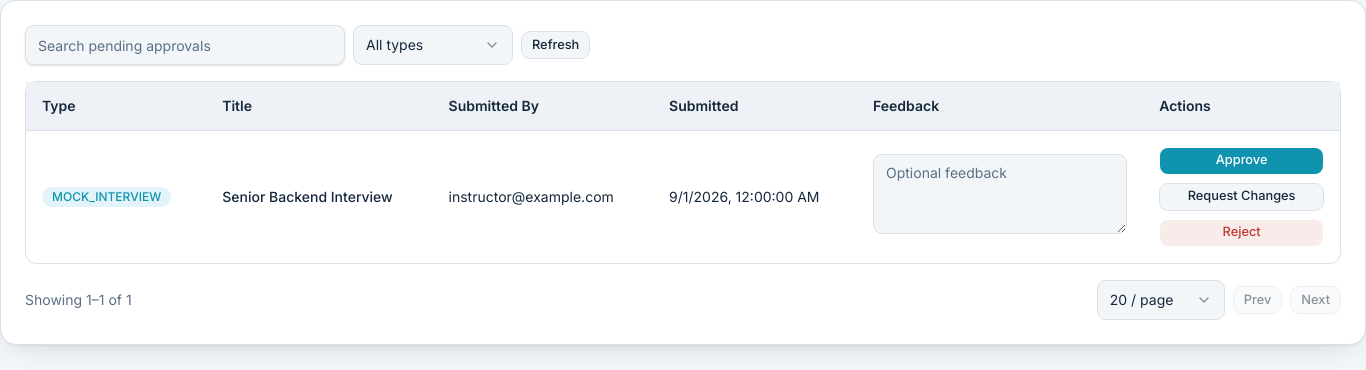
ApprovalsQueue › offers "Mock Interview" as a type filter, so a submitted template can be isolated
expect the text "Senior Backend Interview" is shown: met, box [222, 186, 417, 206]
Click the dropdown "All types" at {"x": 433, "y": 45}, box [353, 25, 513, 65]
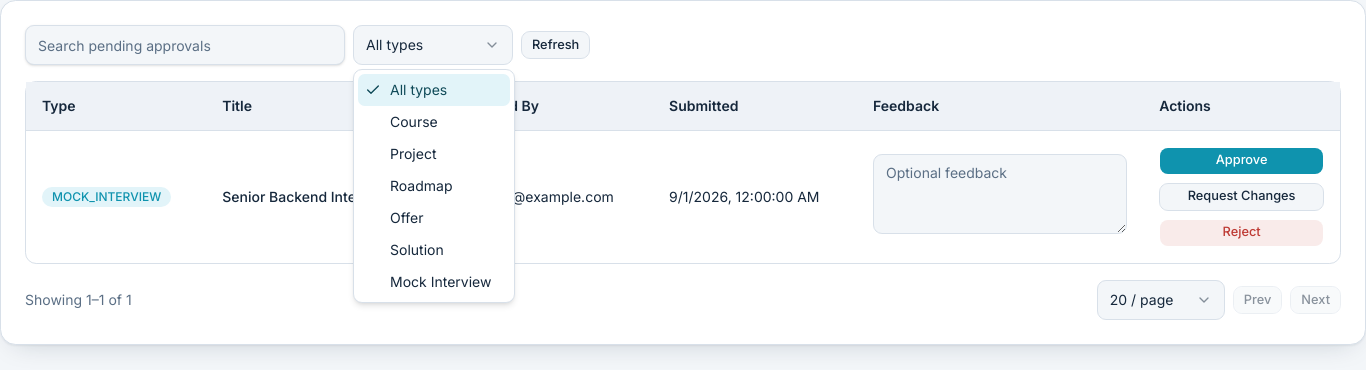
expect the option "Mock Interview" is shown: met, box [390, 273, 491, 290]
